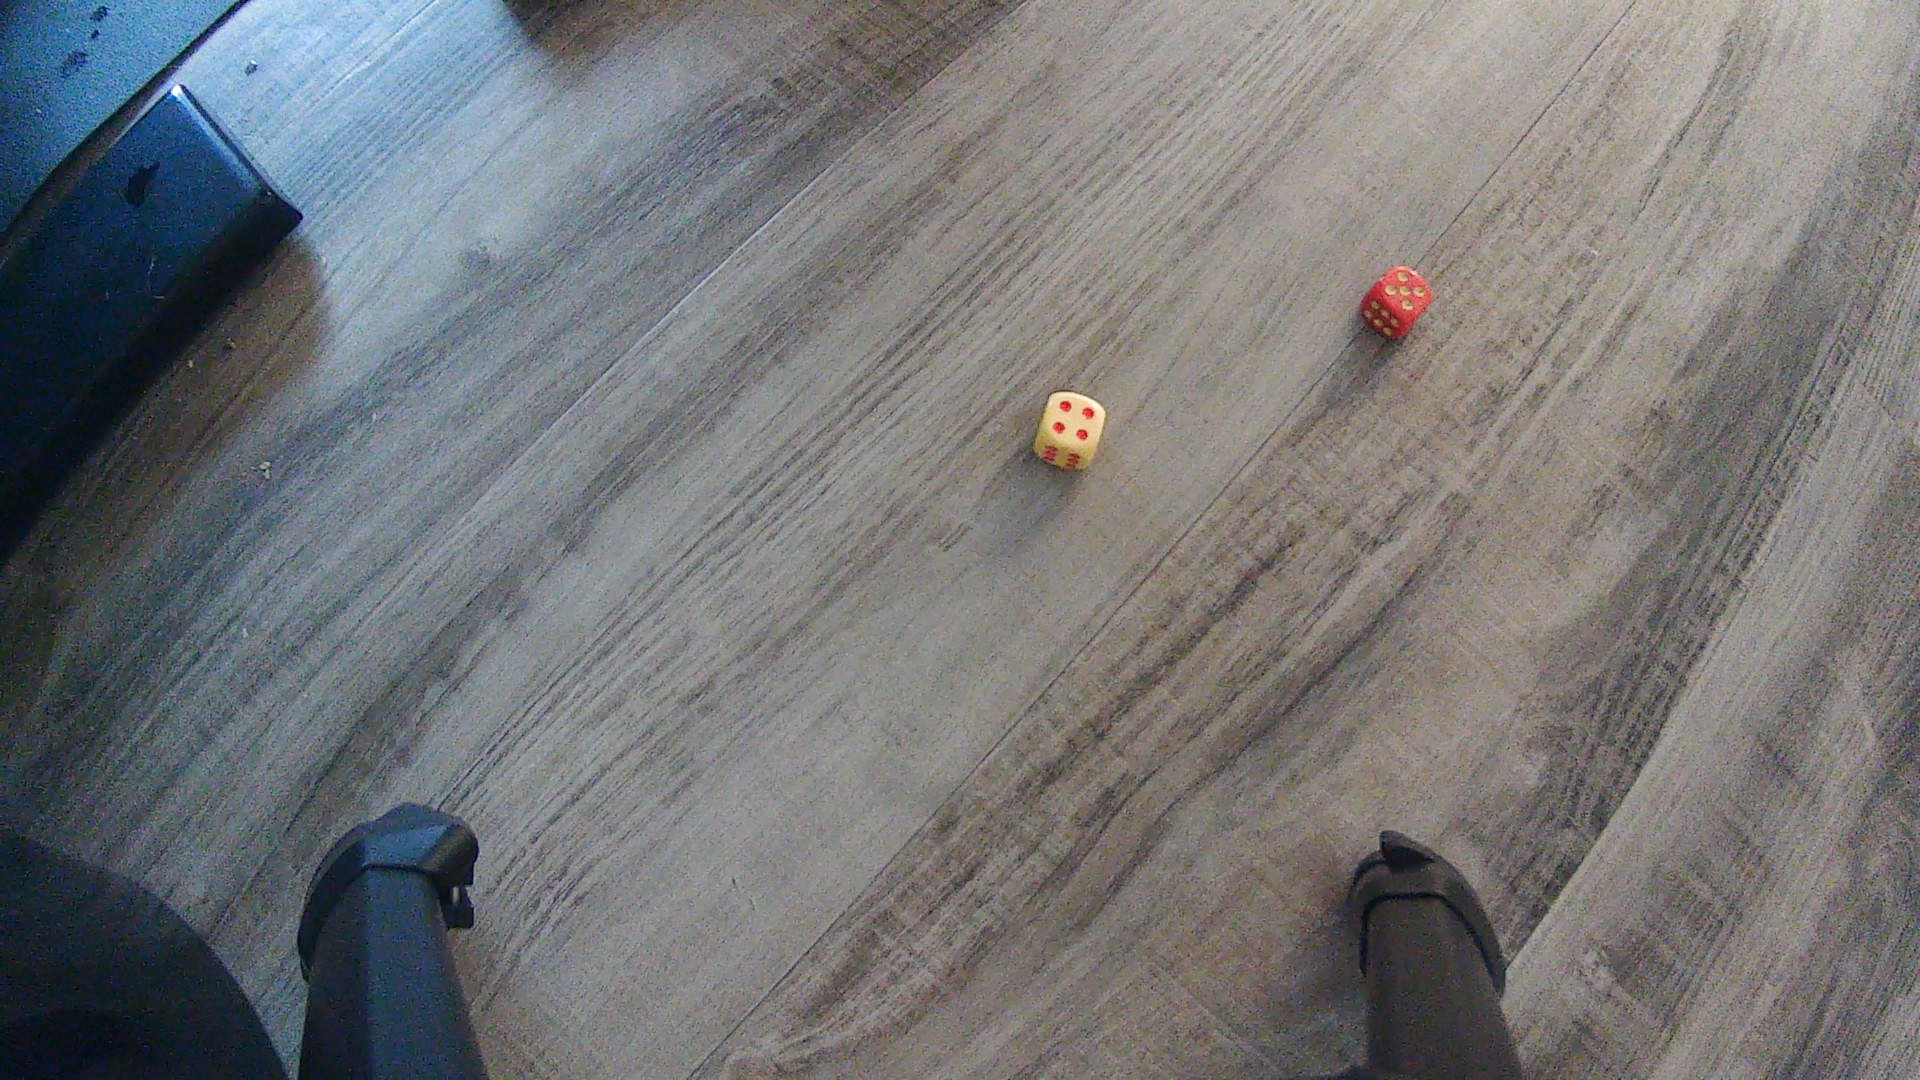die: (1030, 388, 1106, 473), (1360, 262, 1435, 342)
